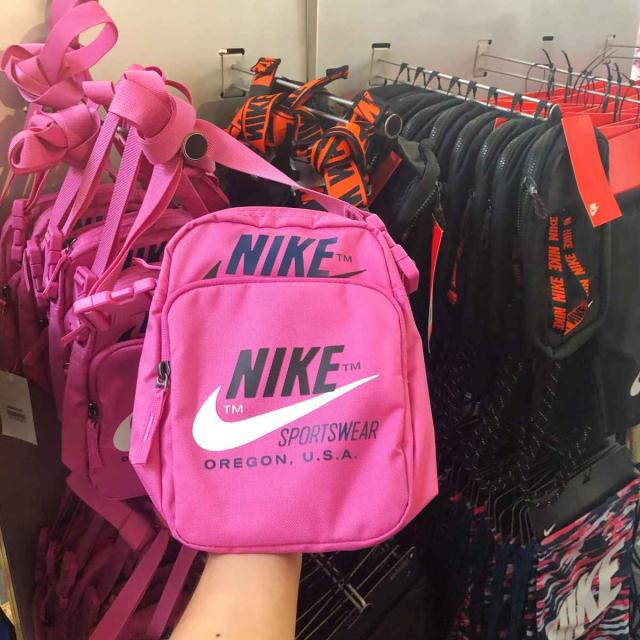Handbag: (113, 203, 434, 564)
